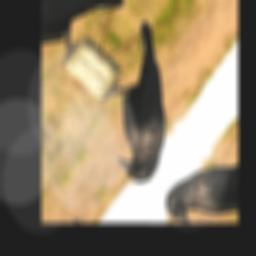Crow: (69, 17, 219, 190)
